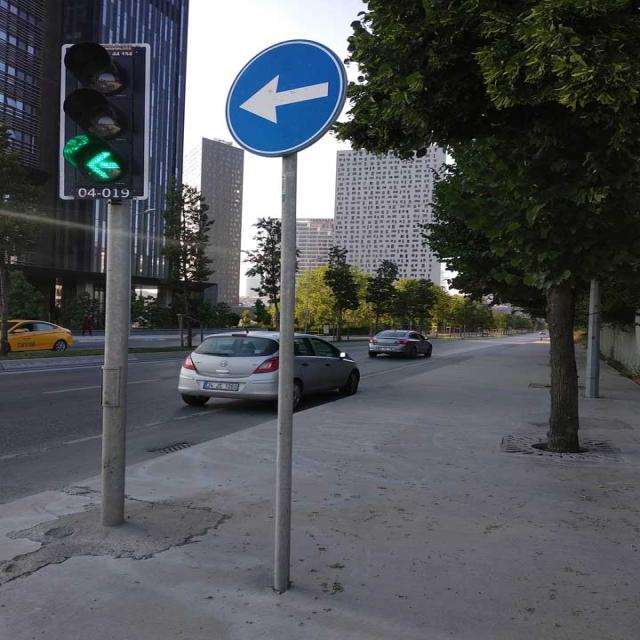sol: (226, 39, 346, 157)
yesil: (59, 42, 150, 200)
